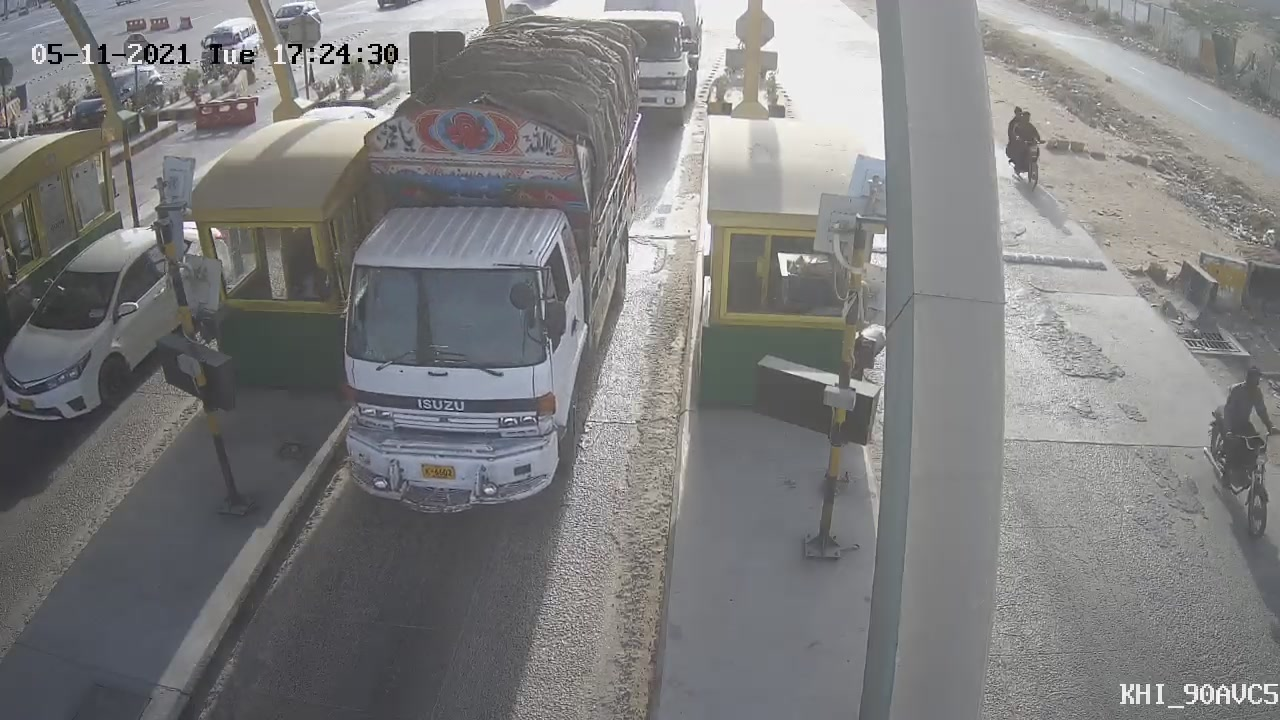F5: (286, 4, 673, 538)
